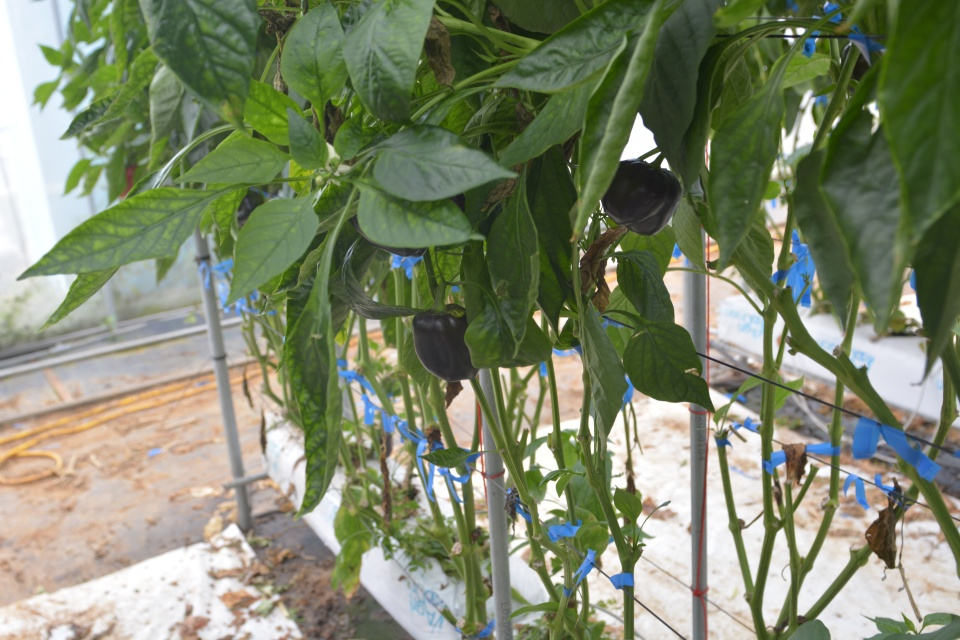fruit: (601, 156, 684, 237), (410, 300, 480, 384), (840, 38, 870, 94)
pedicle: (424, 303, 453, 315), (644, 159, 669, 172)
